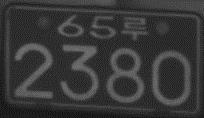0: (151, 49, 191, 107)
2: (13, 41, 53, 99)
3: (59, 43, 99, 101)
5: (89, 15, 116, 40)
6: (57, 13, 84, 38)
8: (105, 47, 145, 104)
루: (120, 16, 148, 40)
